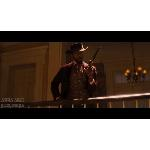Pistol: (83, 44, 103, 78)
